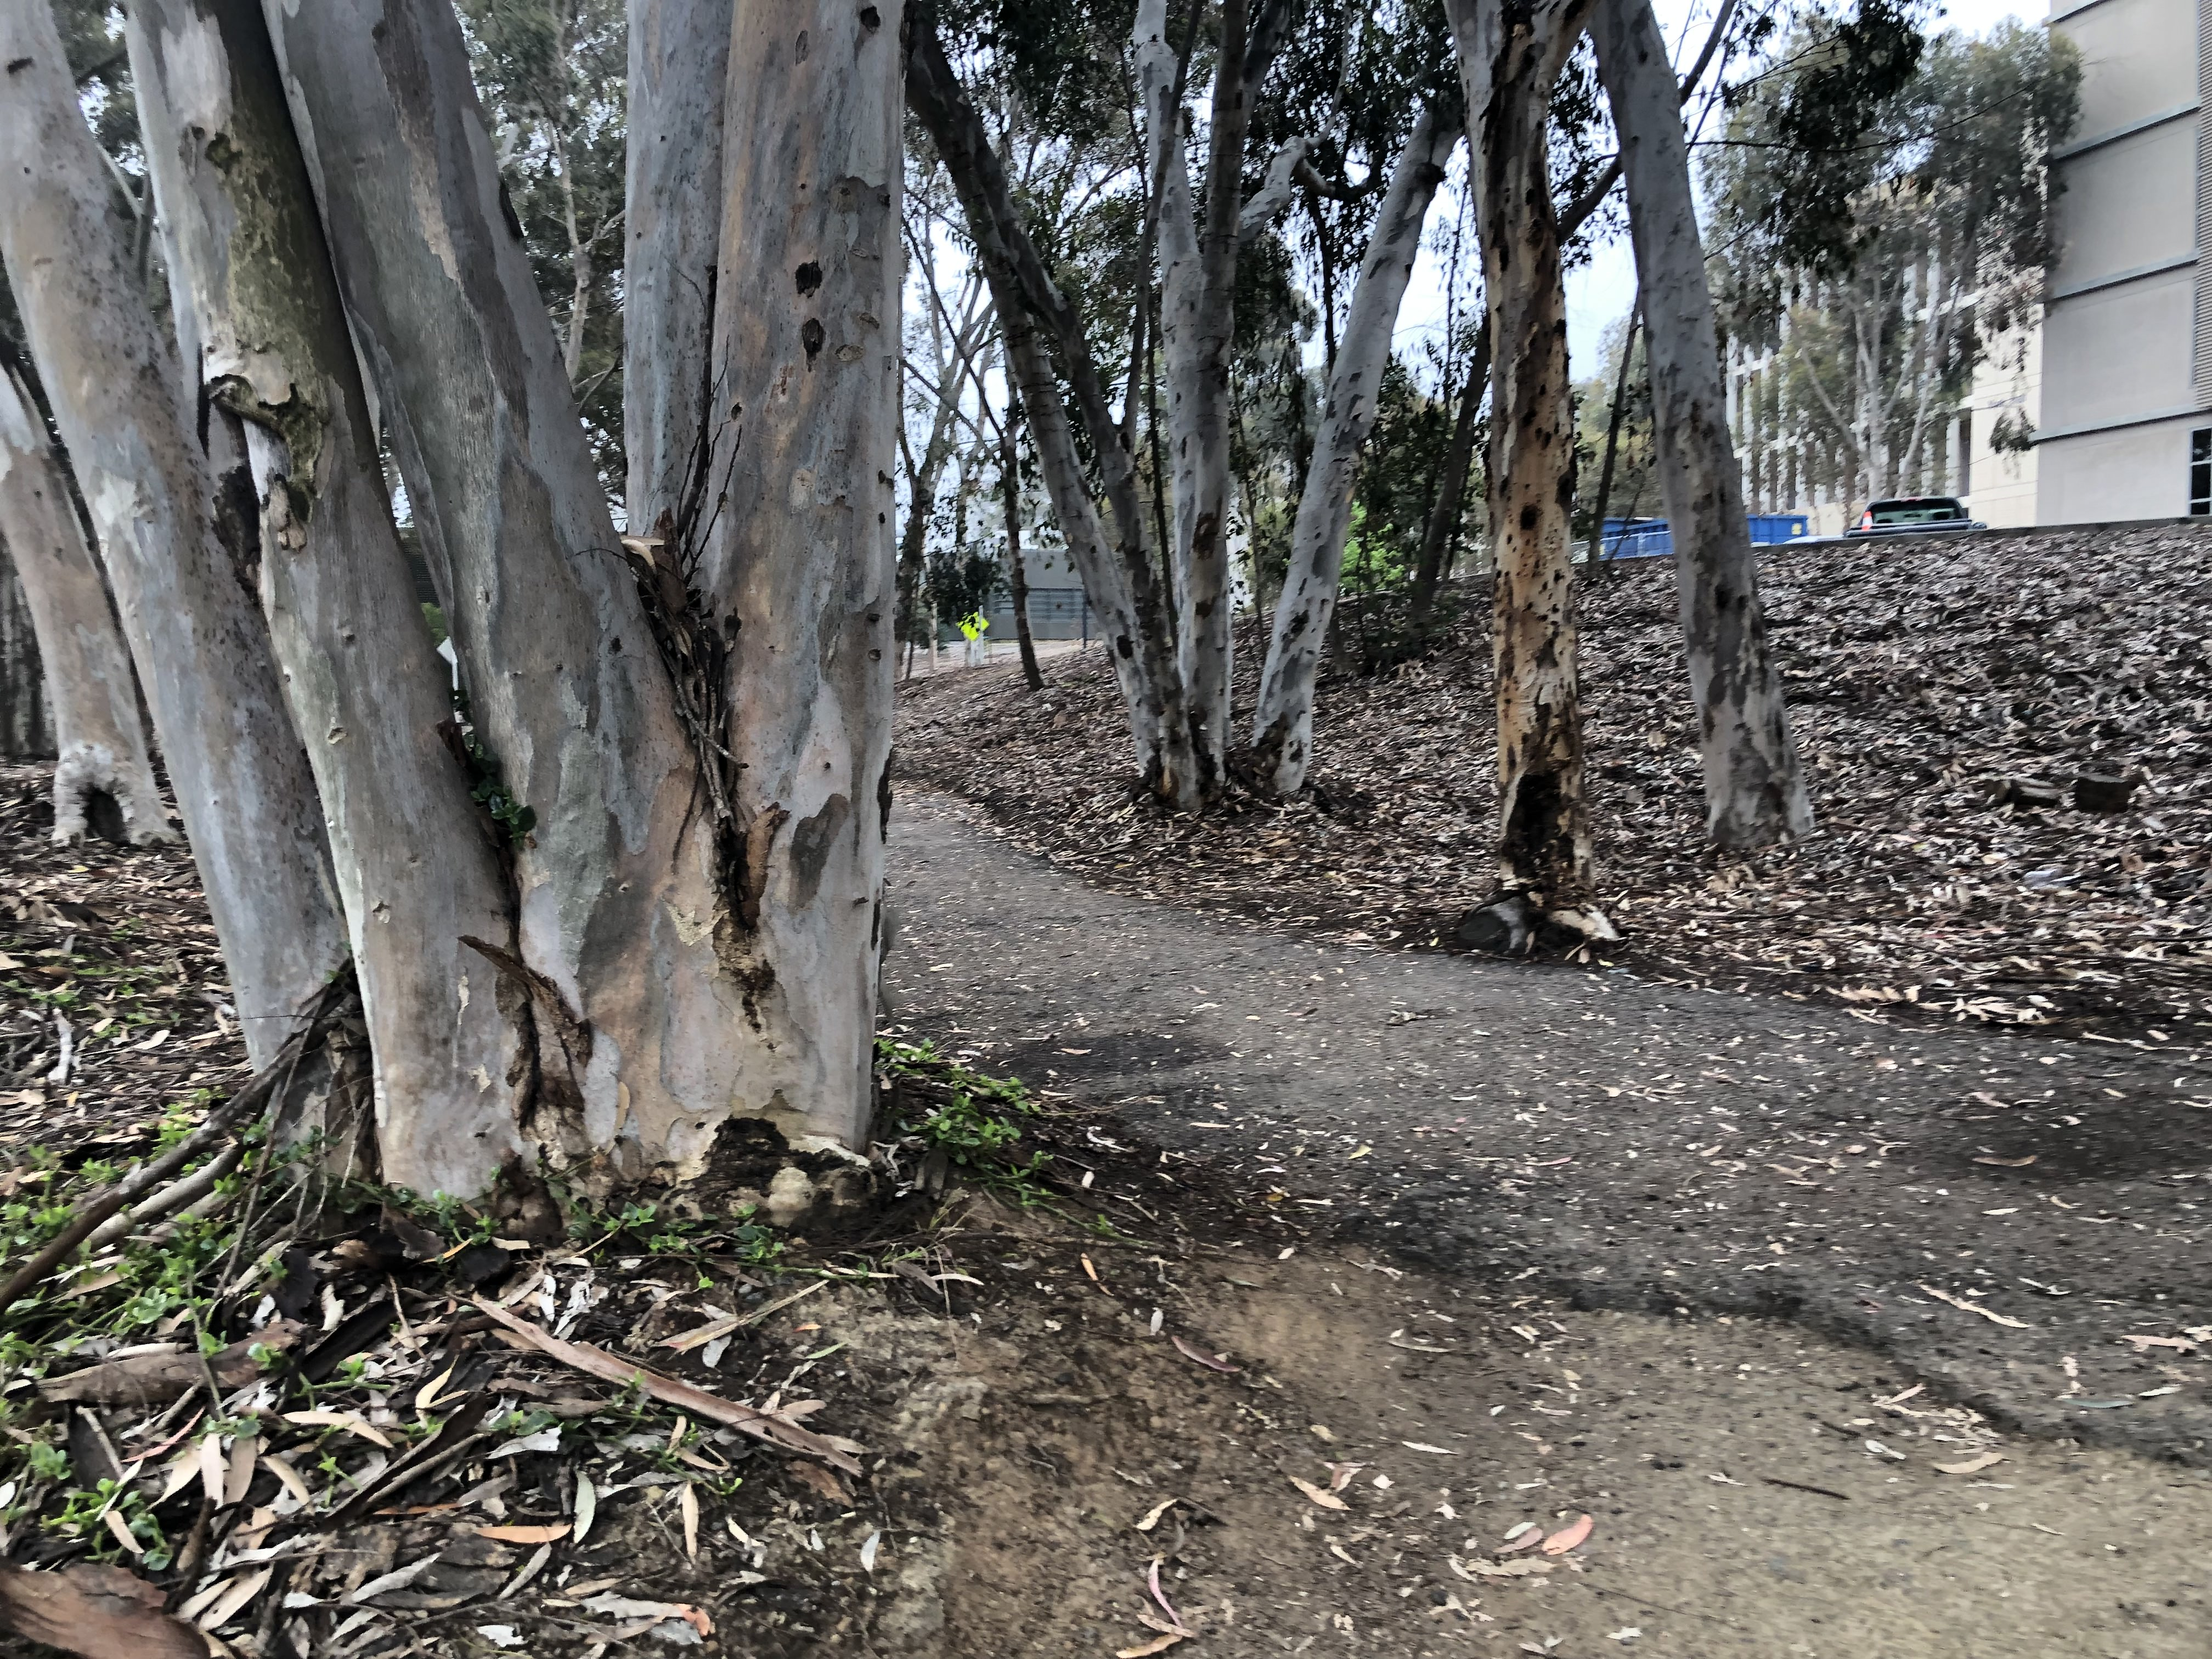Obstacle: (24, 12, 911, 1194), (956, 51, 1409, 817), (1599, 16, 1824, 850), (1454, 38, 1604, 934)
Uplift: (895, 1007, 1291, 1270)
